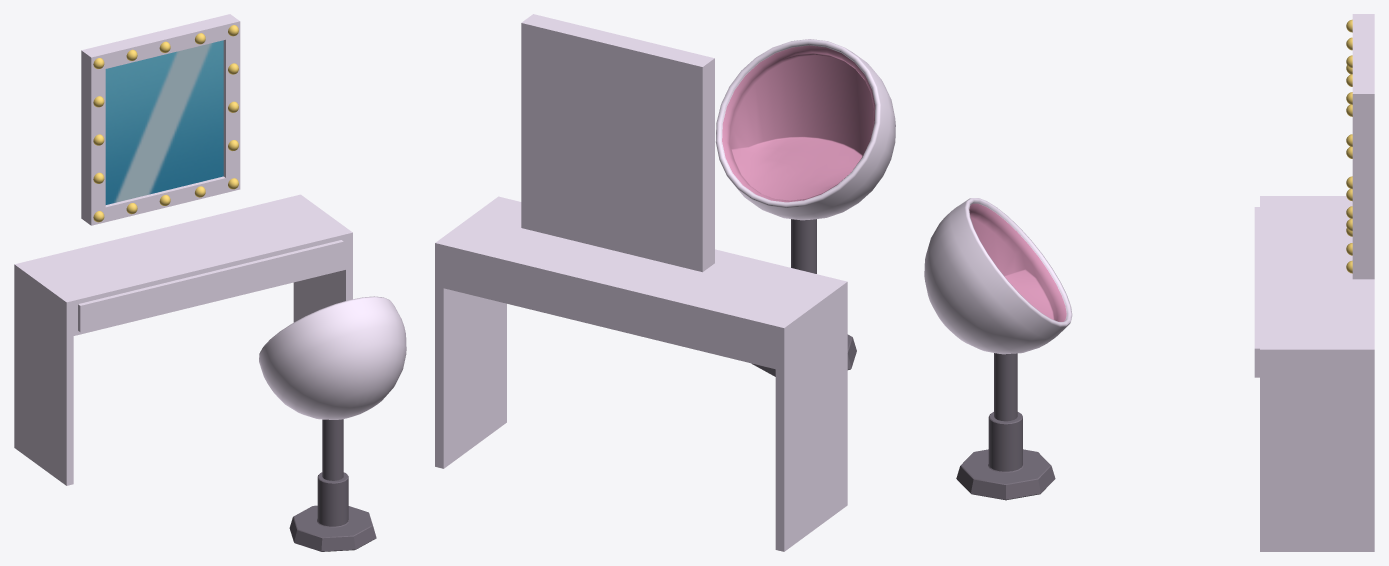
Rendered from HC_HaircutTable_01.fbx.
The picture shows the model from 3 angles, left to right: view 1: azimuth 30°, elevation 25°; view 2: azimuth 150°, elevation 25°; view 3: azimuth 270°, elevation 25°; orthographic projection. The views are drawn at different scales.
Parts seen in each view (by area): view 1: Tble_01, Mirror_01, Chair_01; view 2: Tble_01, Mirror_01, Chair_01; view 3: Tble_01, Chair_01, Mirror_01.
Part boxes in pixels (x1,y1,x2,y2): Tble_01: [14, 194, 352, 485]; Mirror_01: [81, 14, 240, 225]; Chair_01: [259, 296, 406, 551]; Tble_01: [435, 196, 847, 551]; Mirror_01: [521, 14, 714, 272]; Chair_01: [715, 39, 895, 376]; Tble_01: [1254, 196, 1374, 551]; Chair_01: [924, 198, 1072, 500]; Mirror_01: [1346, 14, 1374, 279].
Size of the model in its own units: 197 by 251 by 243.
Materials: 2 (2 with a texture image).
